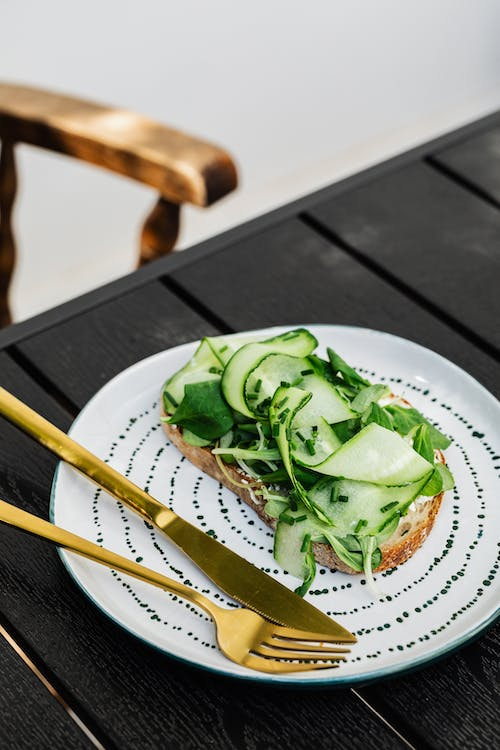knife: (0, 382, 360, 645)
